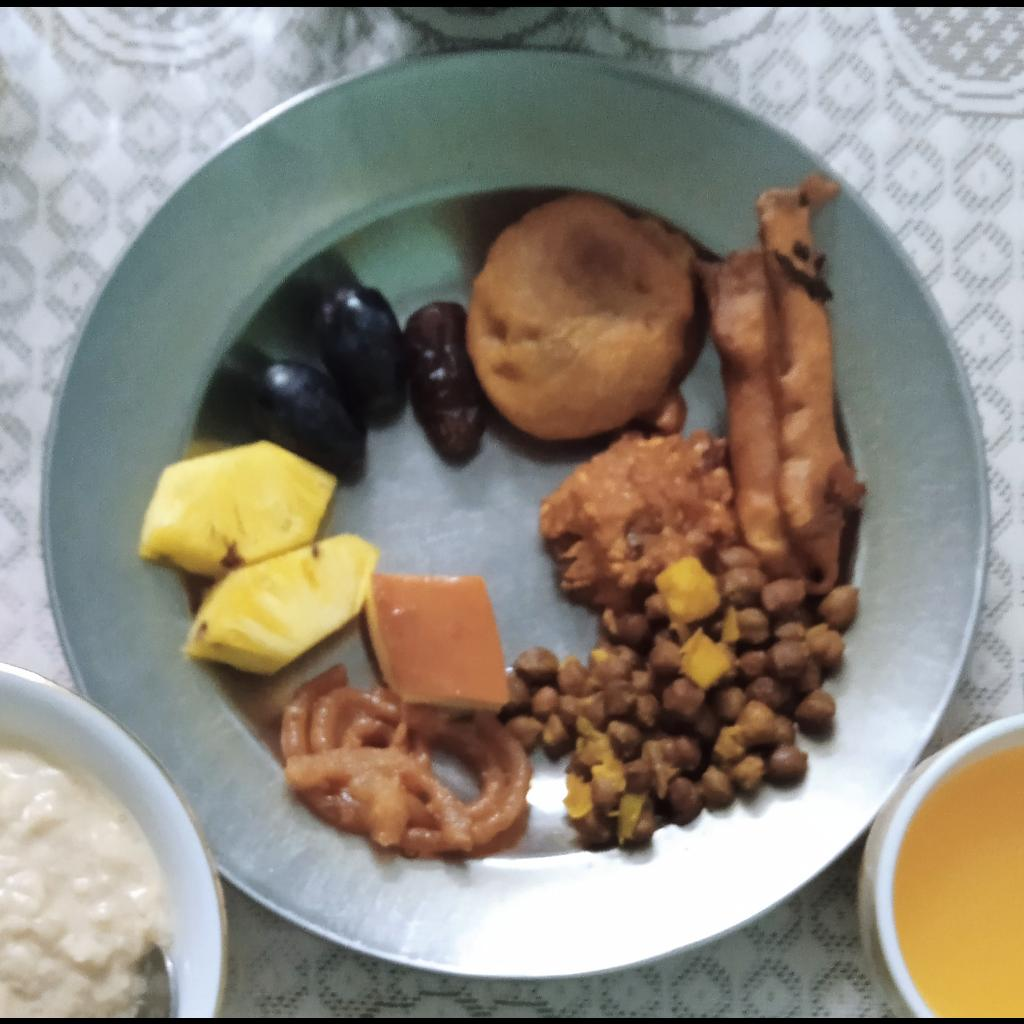beguni: (702, 175, 867, 581)
chola: (508, 545, 868, 846)
chop-alu: (470, 196, 708, 439)
dates: (250, 282, 408, 477), (406, 302, 488, 461)
jilapi: (282, 661, 532, 851)
juice: (894, 746, 1024, 1017)
payesh: (0, 664, 226, 1017)
pineapple: (136, 439, 380, 676)
piyaju: (540, 430, 733, 609)
sweets: (368, 573, 507, 712)
